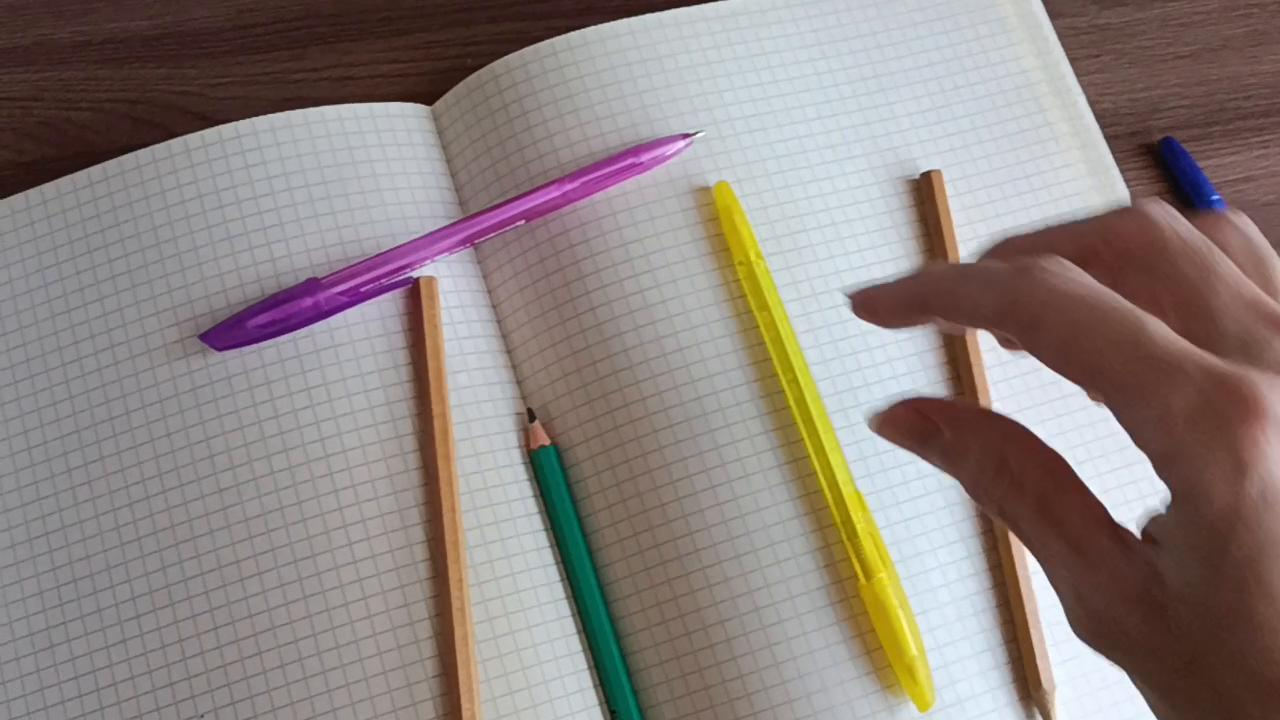pen: (709, 175, 940, 717), (199, 128, 708, 355), (1154, 132, 1240, 231)
pencil: (912, 165, 1063, 720), (526, 400, 652, 720), (410, 277, 484, 720)
